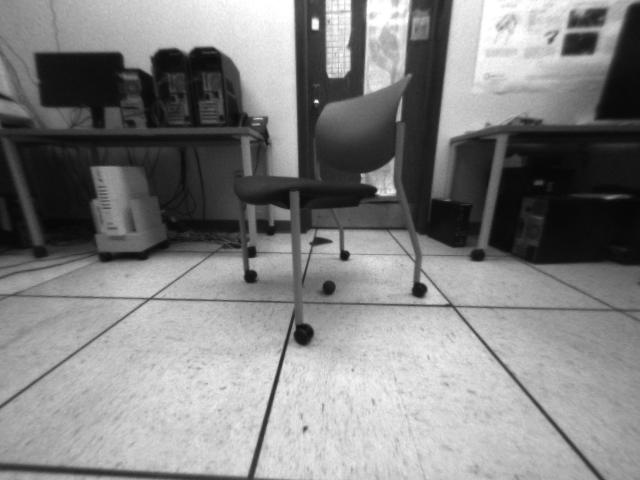dogtoy: (317, 275, 345, 299)
